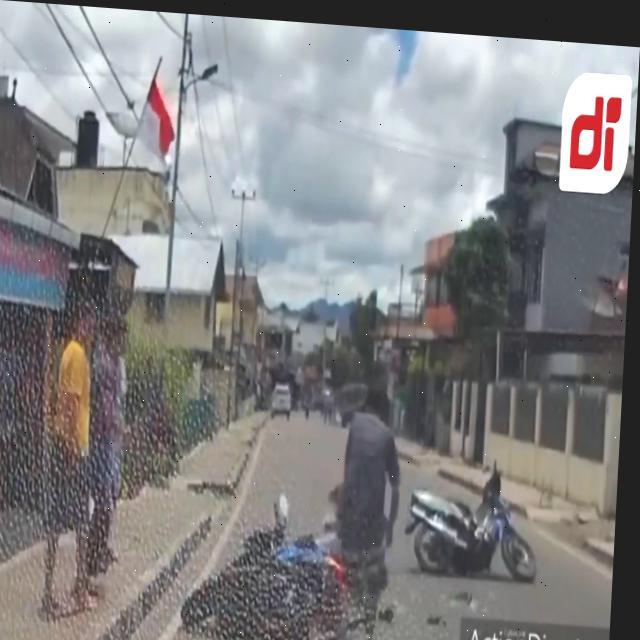multiple_accident: (205, 337, 528, 640)
